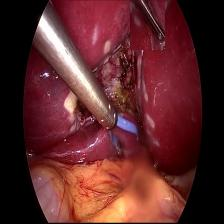Bipolar: (102, 102, 142, 160)
Grasper: (130, 0, 165, 50)
